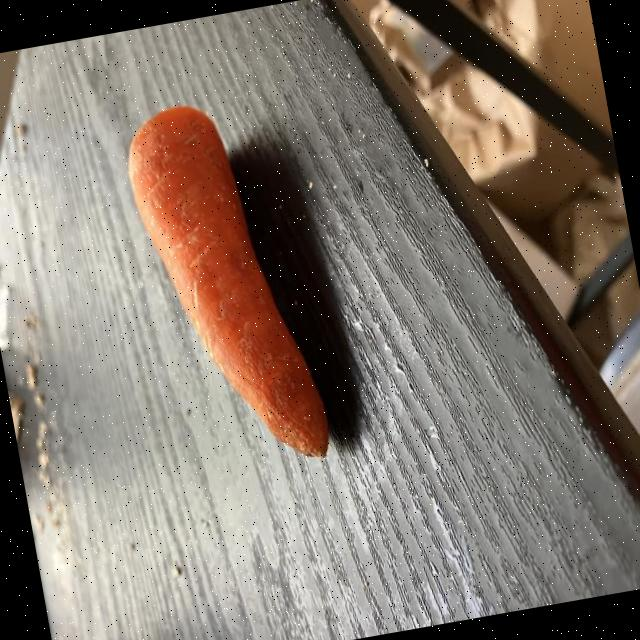carrot: (128, 105, 329, 456)
